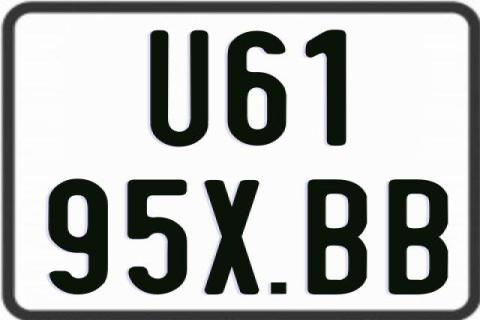0: (48, 177, 110, 297), (226, 31, 288, 147), (126, 178, 188, 292), (305, 28, 349, 147)
B: (388, 177, 452, 296), (308, 177, 369, 295)
U: (150, 29, 211, 147)
X: (201, 180, 257, 294)
